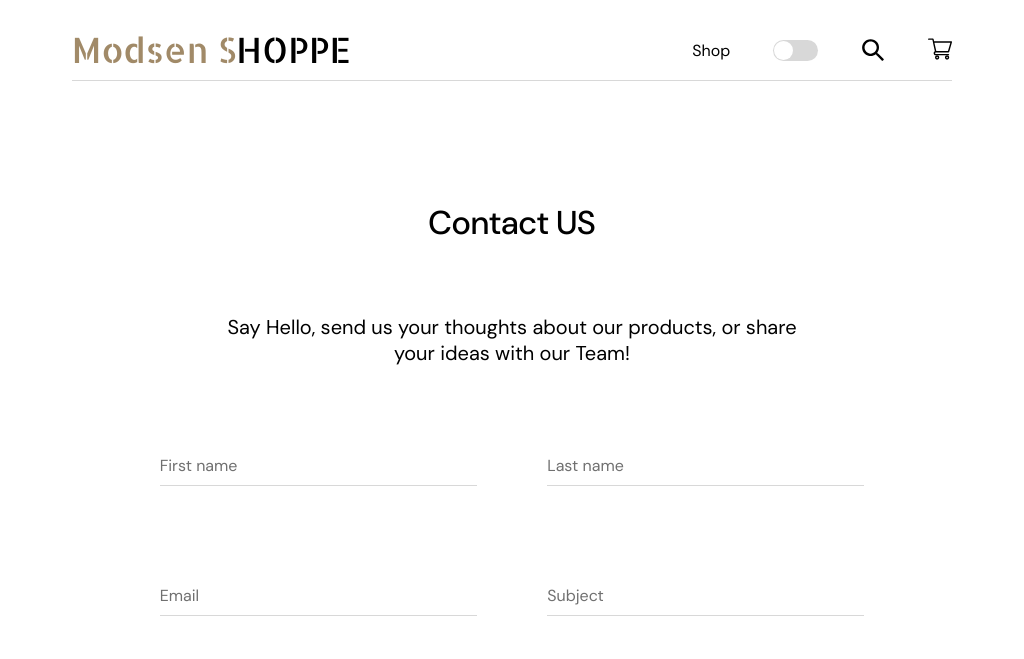
Contact Us Page › should show error message for invalid email
Type "invalid-email" into the field with placeholder "Email".
click(319, 596); type("invalid-email")  # box [160,576,477,616]
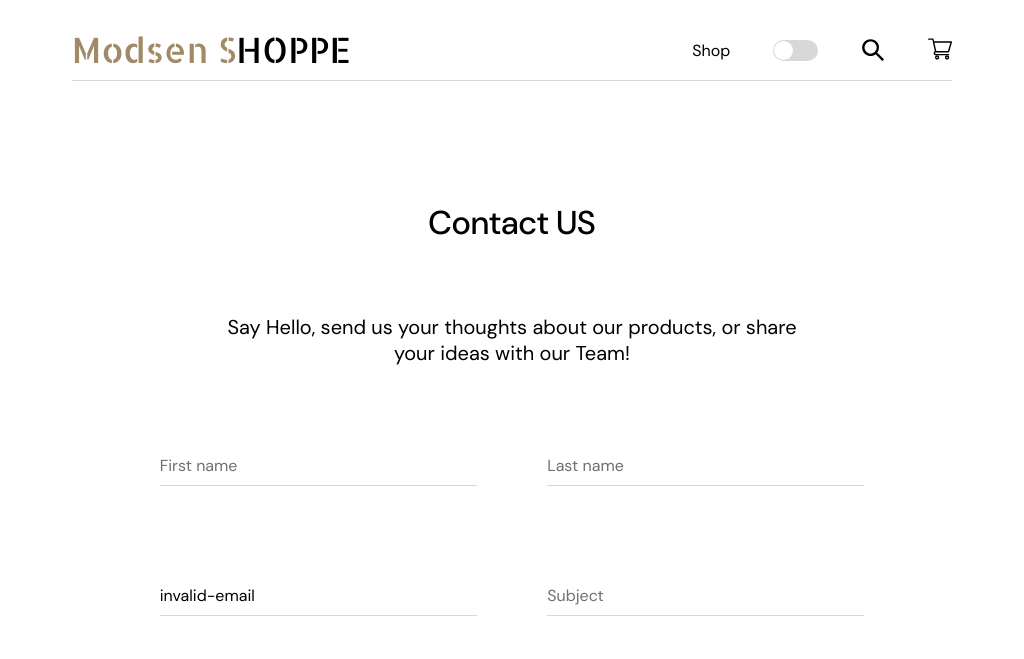
Scroll
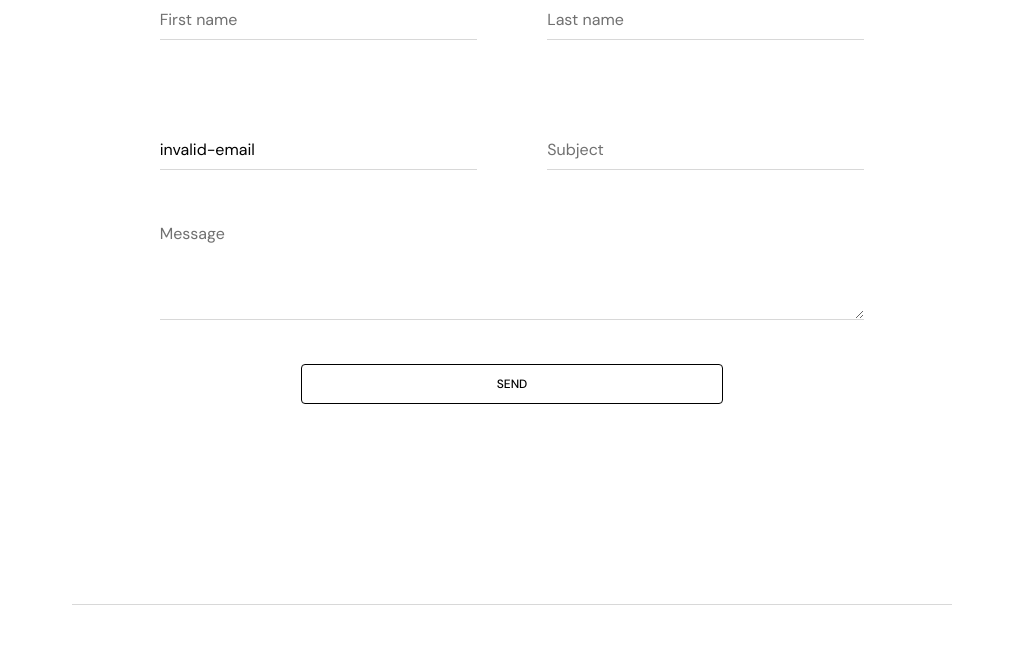
Click the button "SEND".
click(513, 384)  # box [301,364,724,404]
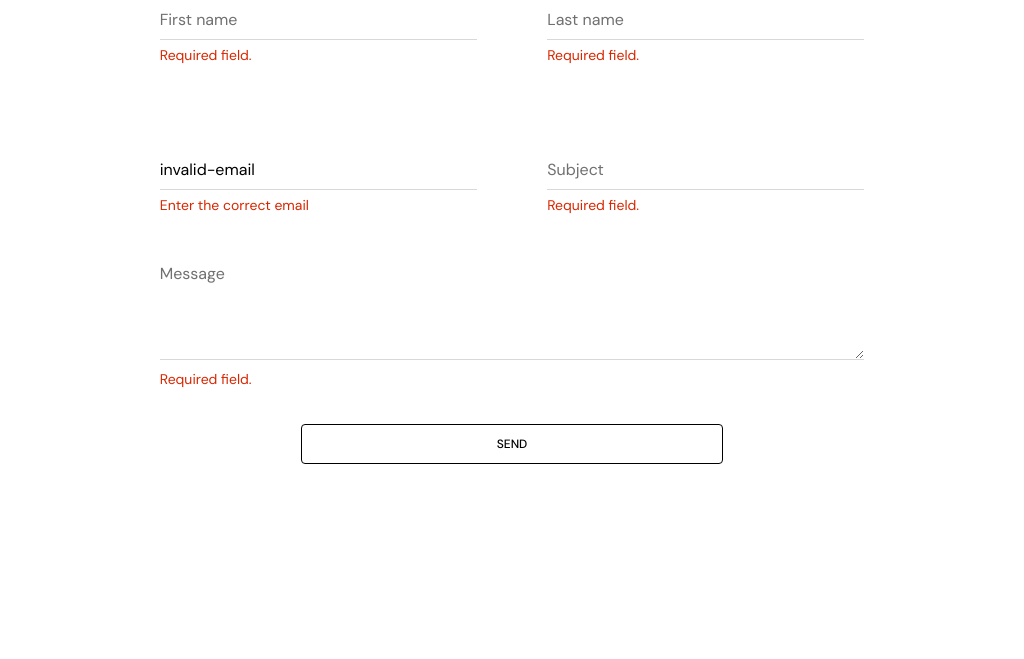
Check: the text with test id "email-error" reads "Enter the correct email", box [160,196,309,214]
